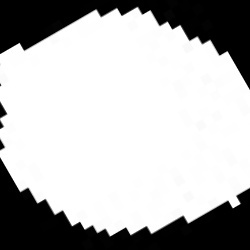spot: (0, 7, 248, 236)
